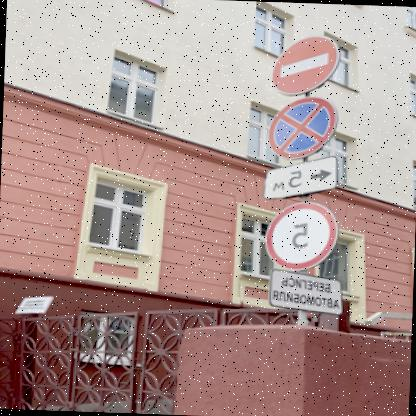speedlimit: (266, 200, 340, 270)
